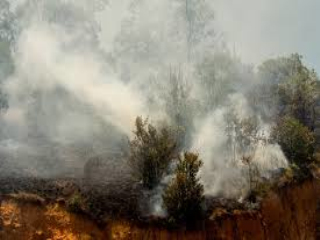smoke: (20, 37, 171, 154), (177, 104, 298, 215), (124, 169, 175, 218)
